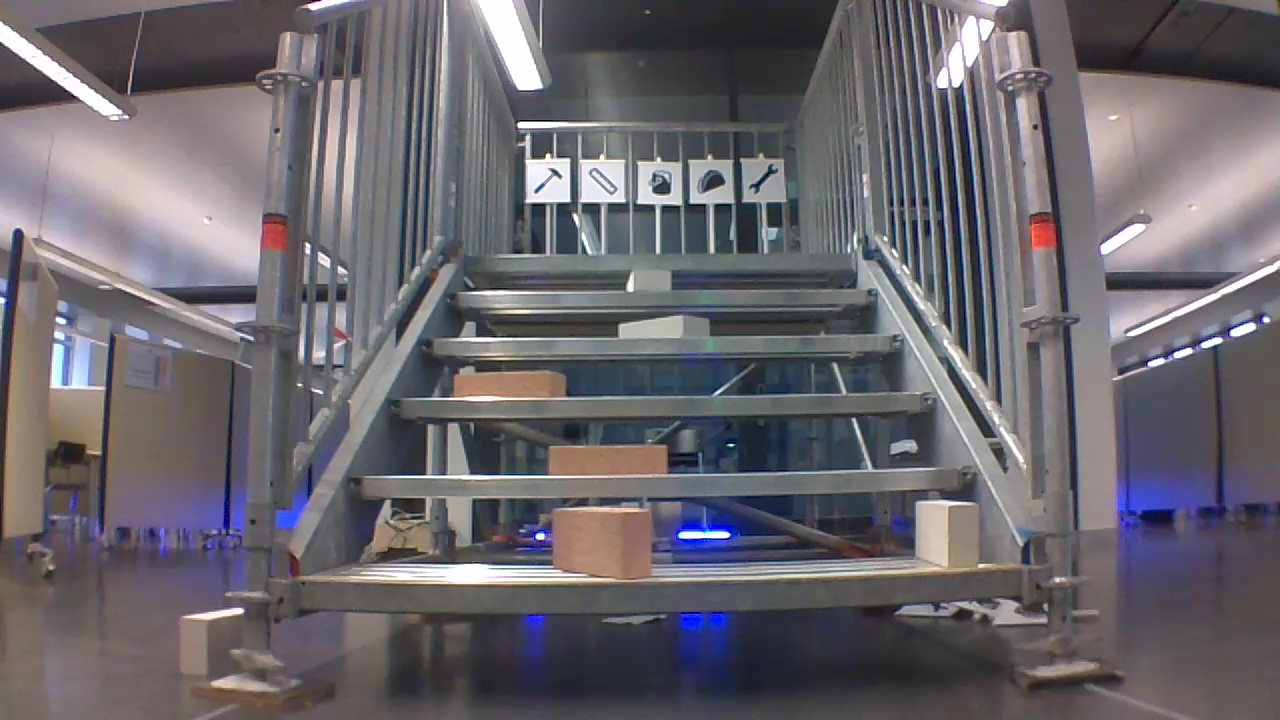brick: (543, 503, 657, 577), (911, 497, 989, 568), (176, 606, 244, 673), (446, 364, 569, 400), (615, 312, 713, 336), (625, 267, 675, 289)
bucket: (649, 169, 674, 194)
edge: (292, 561, 1049, 615), (350, 461, 964, 500), (391, 390, 935, 423), (420, 336, 901, 356), (449, 289, 880, 309), (465, 252, 857, 272)
hammer: (532, 162, 563, 195)
ruler: (587, 165, 620, 195)
stairs: (255, 0, 1077, 686)
steps: (296, 251, 1059, 621)
taco: (695, 169, 728, 194)
wrench: (747, 163, 780, 194)
